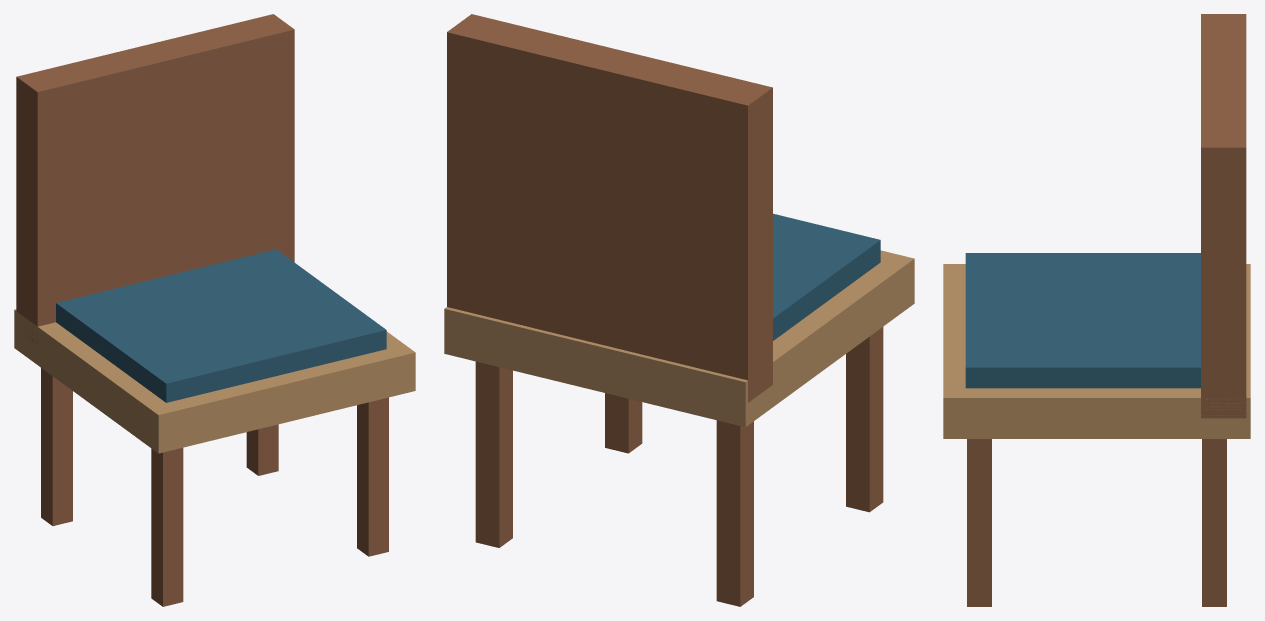
File: chair.glb
3 renders of one model, left to right at view 1: azimuth 30°, elevation 25°; view 2: azimuth 150°, elevation 25°; view 3: azimuth 270°, elevation 25°, orthographic. The views are drawn at different scales.
Parts seen in each view (by area): view 1: chair; view 2: chair; view 3: chair.
Part boxes in pixels (<box>): chair: <box>14,14,415,606</box>; chair: <box>444,14,914,606</box>; chair: <box>943,14,1250,606</box>.
Bounding box in the file's own units: 0.7 × 1.14 × 0.68.
